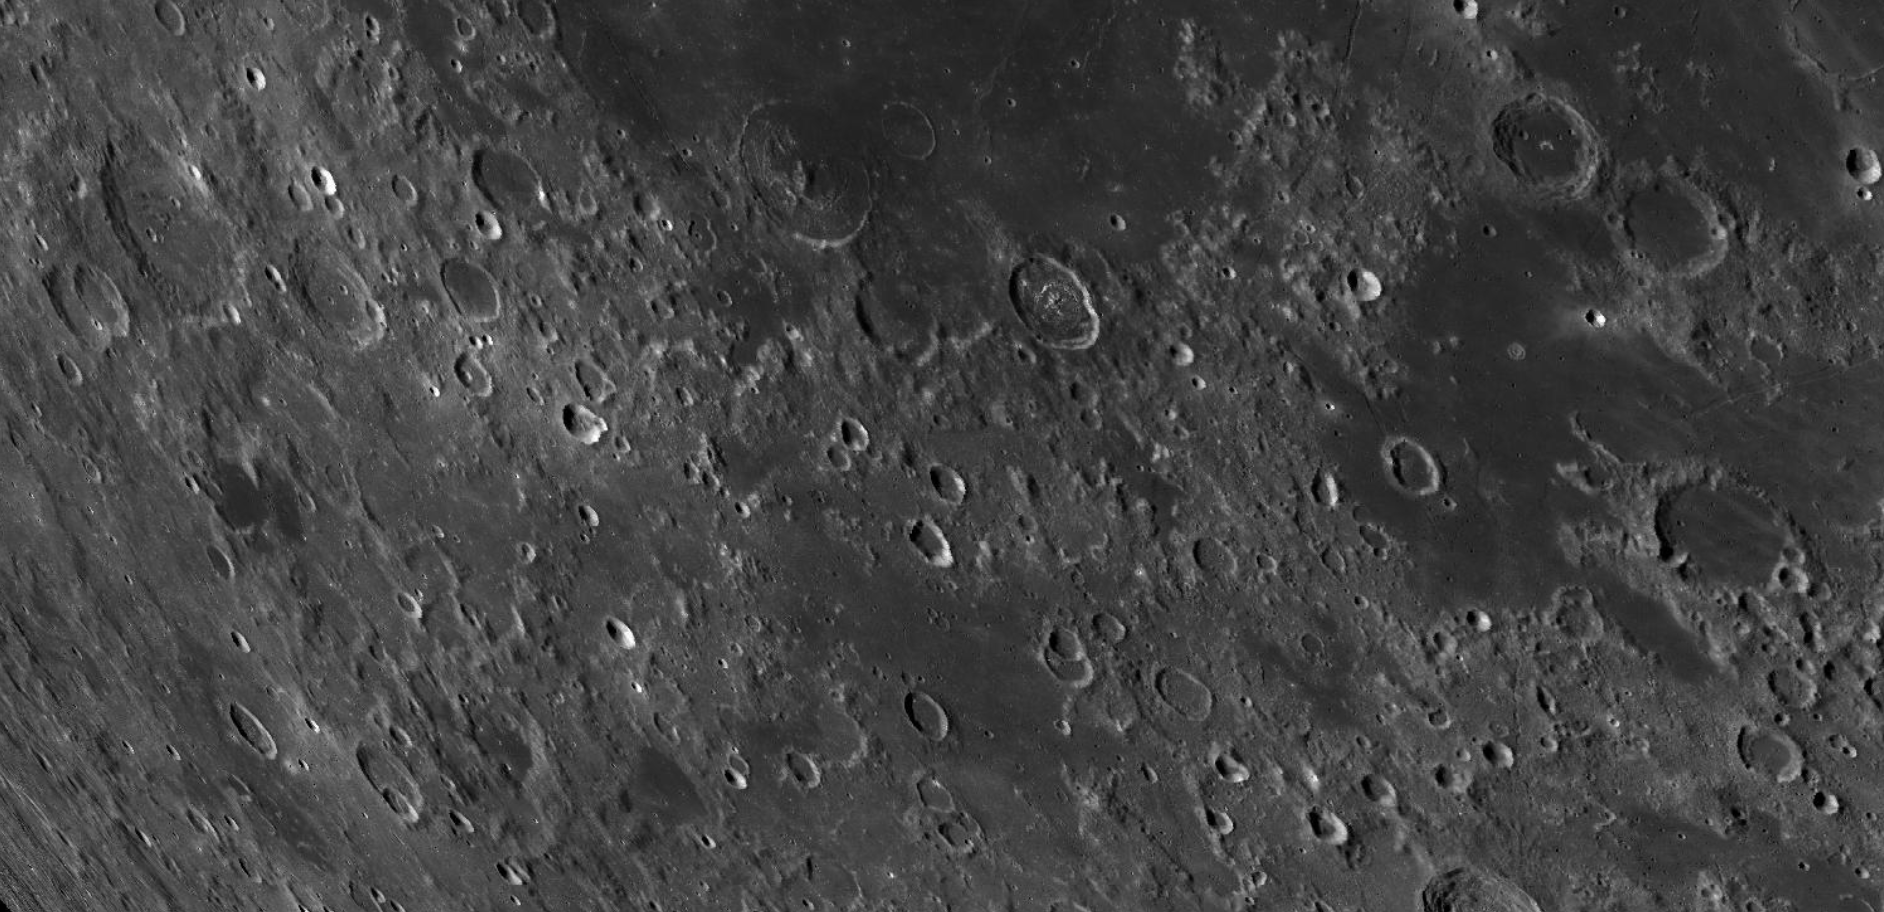crater: (1588, 437, 1846, 676), (76, 118, 278, 354), (713, 89, 906, 278), (1451, 74, 1608, 221), (272, 230, 397, 385), (1612, 151, 1737, 290), (983, 248, 1134, 351), (1349, 411, 1447, 503), (424, 248, 524, 333), (877, 670, 964, 756), (1145, 655, 1232, 735), (216, 691, 290, 773), (892, 506, 966, 582), (1555, 296, 1639, 356), (590, 600, 652, 669), (109, 2, 195, 48), (554, 398, 613, 457), (985, 73, 1026, 124), (1099, 187, 1138, 236), (1053, 40, 1091, 77)
